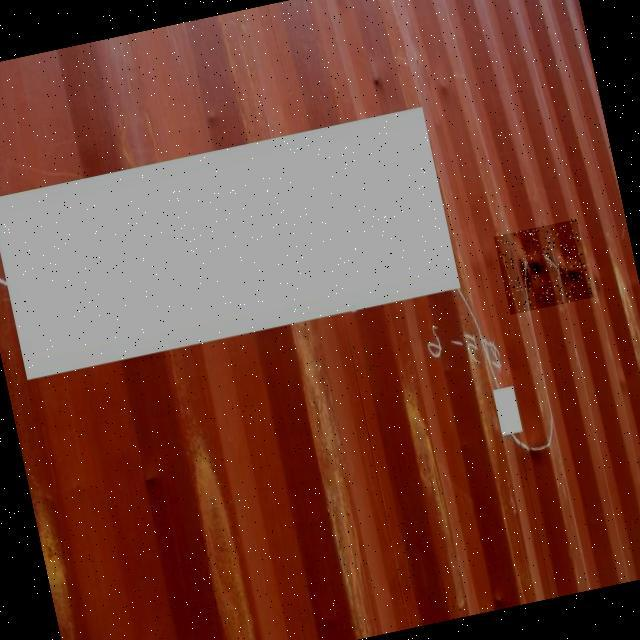Minor-Dent: (494, 219, 594, 315)
